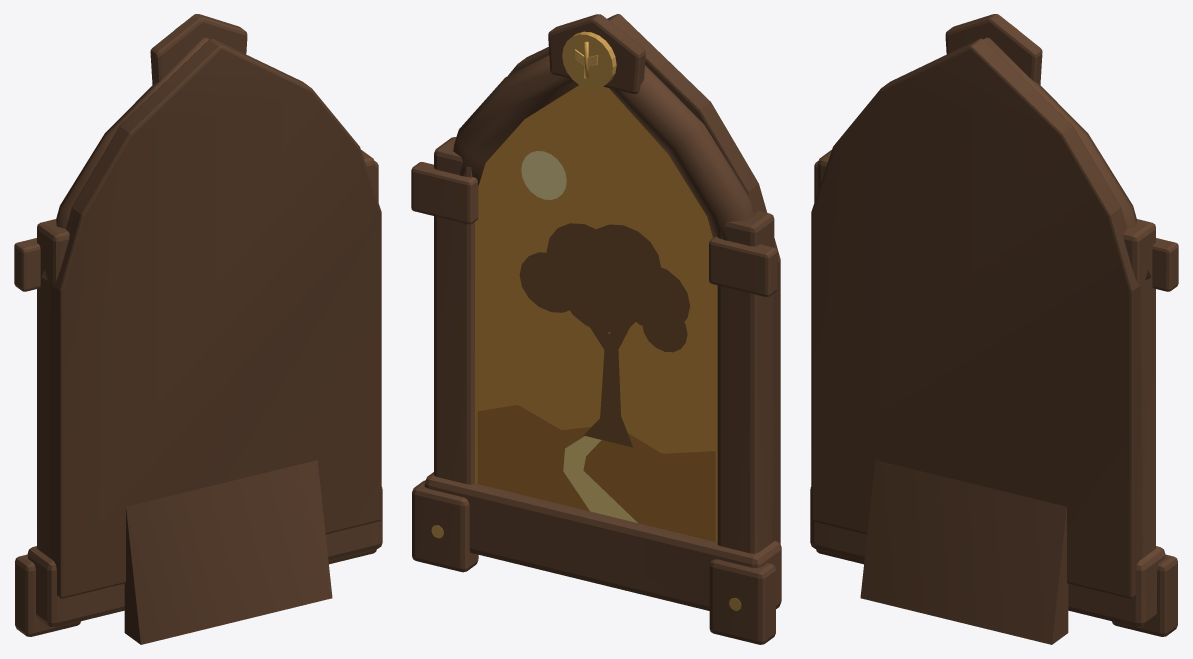
Rendered from memory-keepsake.glb.
3 renders of one model, left to right at view 1: azimuth 30°, elevation 25°; view 2: azimuth 150°, elevation 25°; view 3: azimuth 330°, elevation 25°, orthographic.
Parts seen in each view (by area): view 1: memory-keepsake; view 2: PhotoSurface, memory-keepsake; view 3: memory-keepsake.
Boxes of the visible parts, x1,y1,x2,y2 form: memory-keepsake: (14,14,382,644); PhotoSurface: (475,85,717,542); memory-keepsake: (411,14,781,644); memory-keepsake: (810,14,1178,644).
Bounding box in the file's own units: 0.42 × 0.65 × 0.1.
